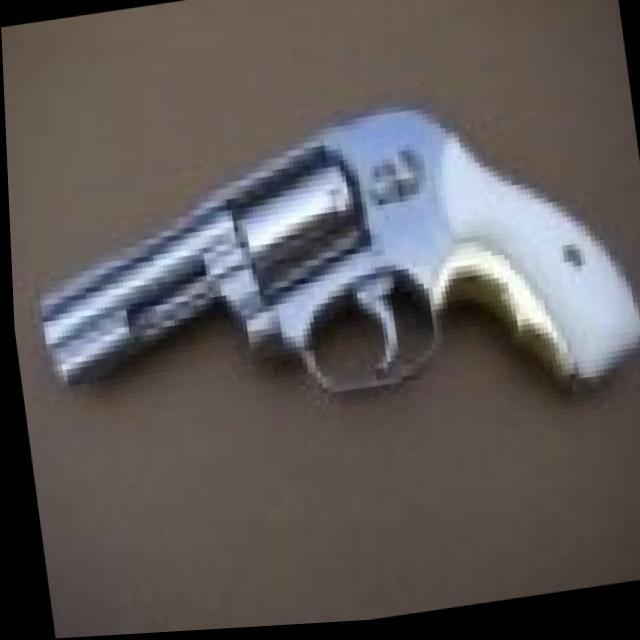weapon: (9, 76, 640, 468)
